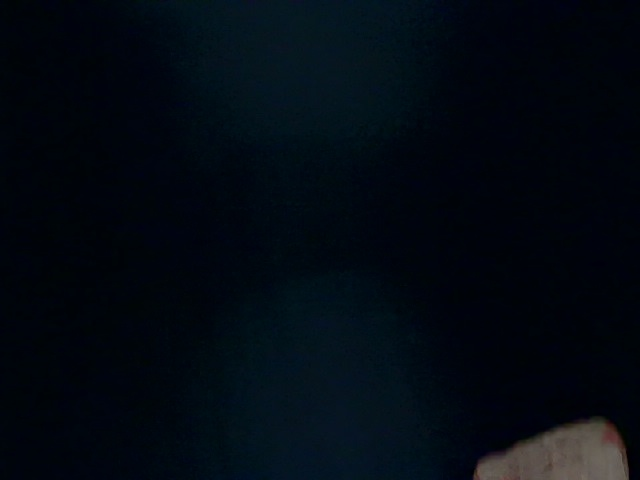KHSLJ: (262, 12, 603, 321)
